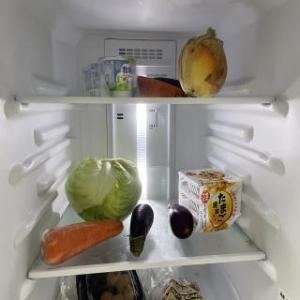cabbage: (66, 158, 142, 220)
carrot: (40, 222, 122, 266), (138, 75, 189, 97)
eggplant: (128, 204, 152, 258), (168, 202, 196, 238), (155, 75, 185, 89)
onion: (178, 30, 228, 96)
